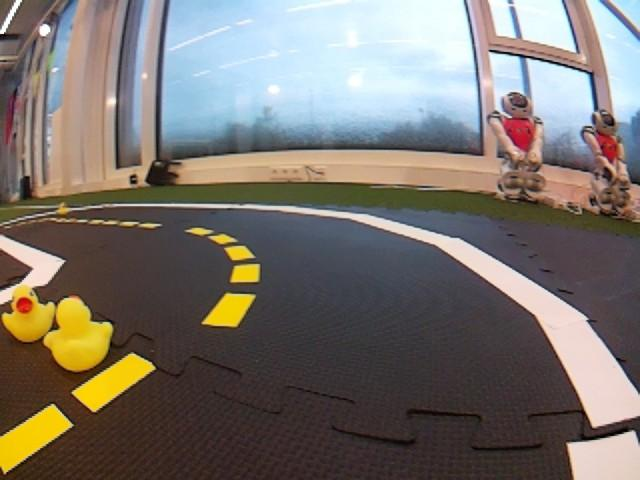Duckies: (42, 300, 111, 372), (4, 288, 68, 351), (56, 203, 69, 214)
